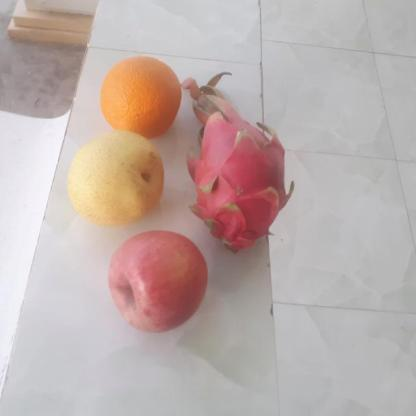apple: (105, 231, 208, 332)
orange: (97, 57, 180, 138)
pear: (61, 131, 166, 227)
pitaya: (182, 102, 293, 250)
